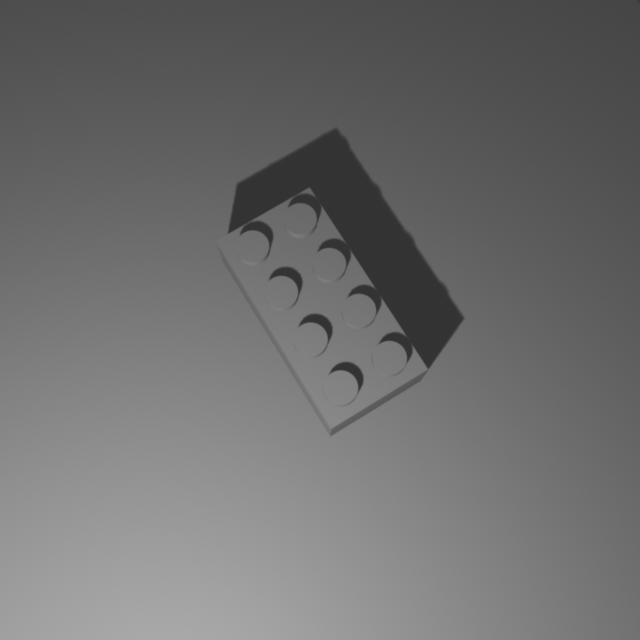lego_2x4: (214, 183, 429, 436)
